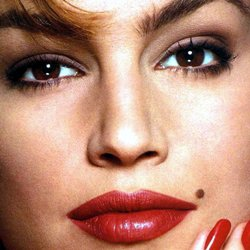tahilalat: (193, 187, 205, 199)
